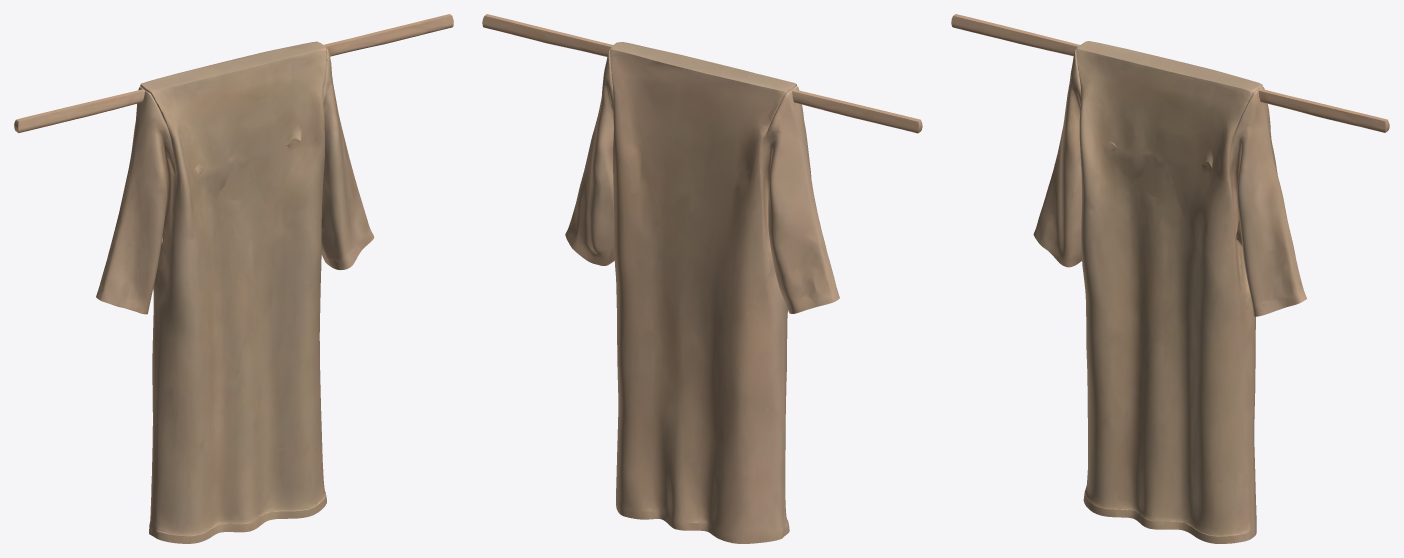
The model's file is garment.glb.
3 renders of one model, left to right at view 1: azimuth 30°, elevation 25°; view 2: azimuth 150°, elevation 25°; view 3: azimuth 330°, elevation 25°, orthographic.
Parts seen in each view (by area): view 1: model; view 2: model; view 3: model.
Boxes of the visible parts, x1,y1,x2,y2 form: model: (14,14,453,543); model: (482,14,922,543); model: (951,14,1389,543).
Size of the model in its own units: 1.9 by 1.88 by 0.2941.
Materials: 1 (1 with a texture image).
